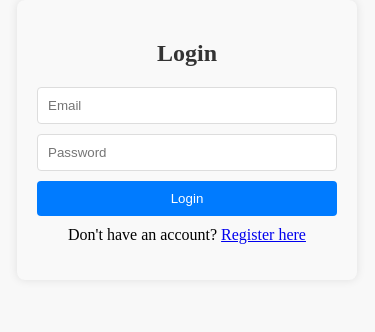
Login Component › displays error message on login failure
Type "test@example.com" into the field with placeholder "Email" at (187, 105), box [37,87,337,124]
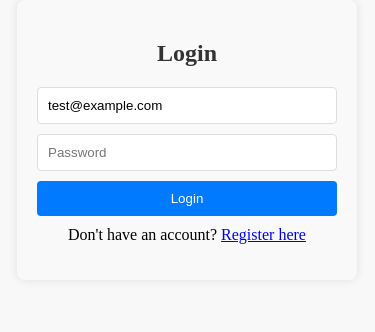
Type "wrongpassword" into the password field with placeholder "Password" at (187, 152), box [37,134,337,171]
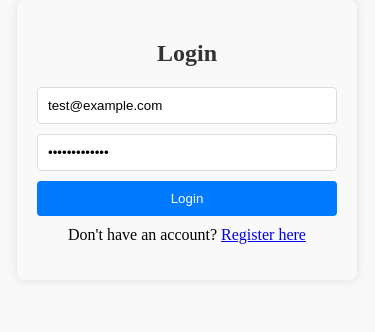
Click the button "Login" at (187, 198), box [37,181,337,216]
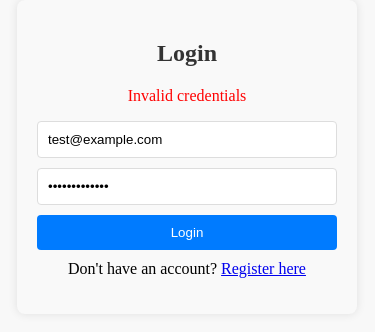
Check: the text "Invalid credentials" is shown, box [128,87,246,104]
